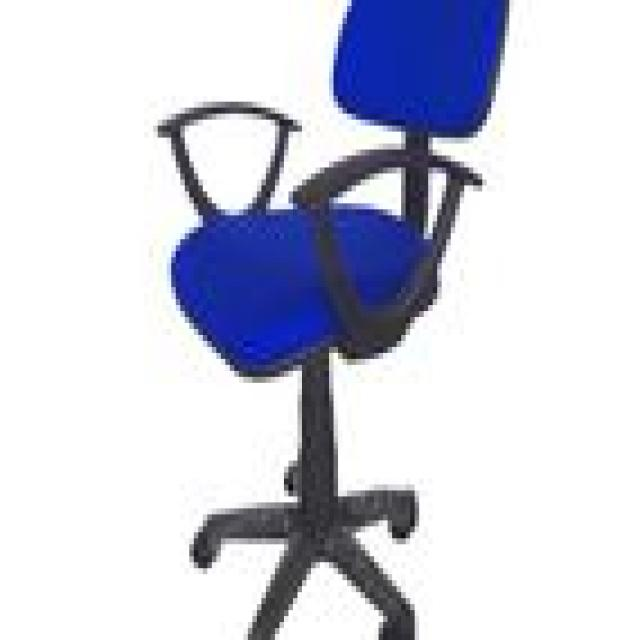others: (113, 6, 572, 640)
